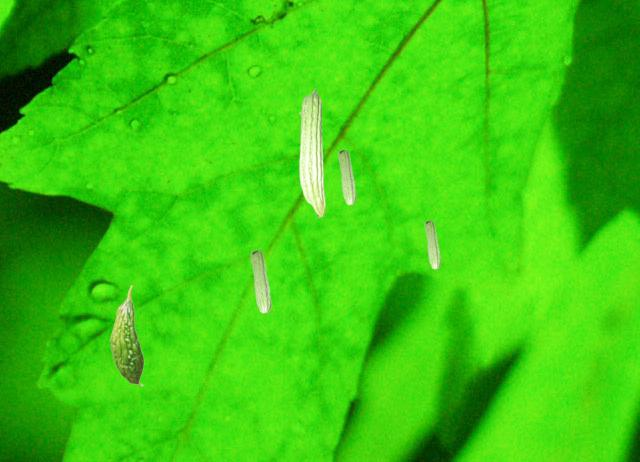ampalaya: (109, 285, 144, 386), (298, 87, 325, 217), (250, 249, 272, 313), (337, 149, 356, 205), (424, 220, 441, 269)
